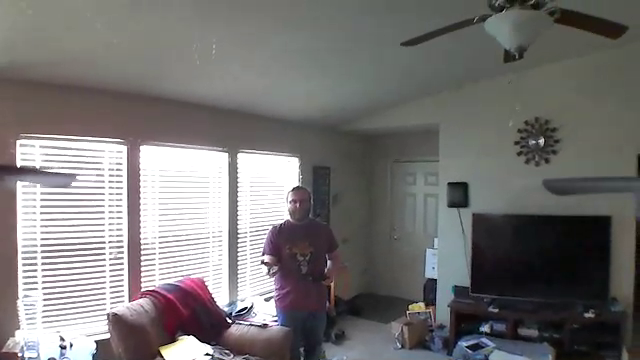land: (258, 258, 290, 278)
